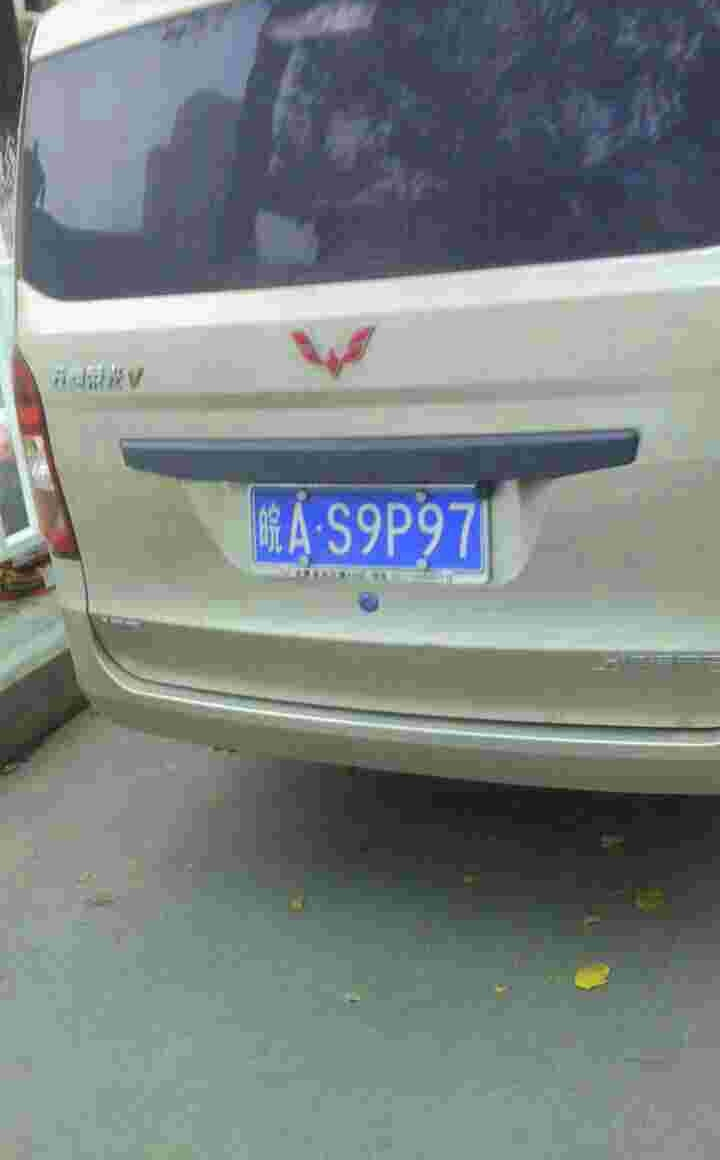plate: (247, 483, 489, 574)
